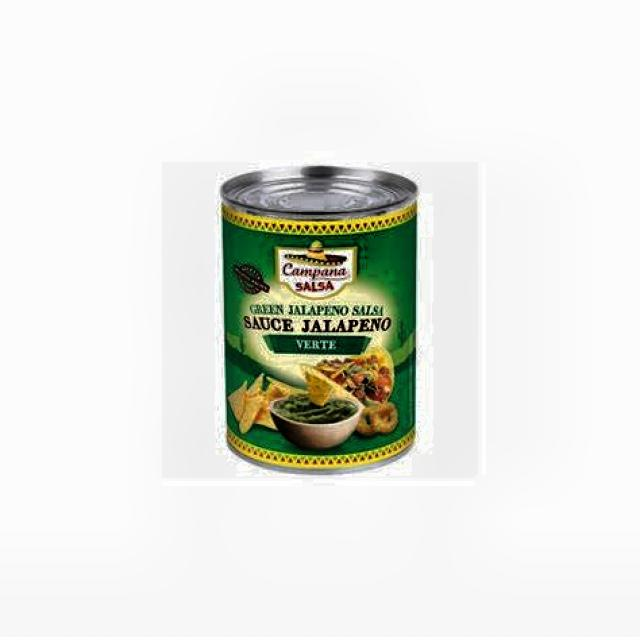Cans: (202, 154, 434, 486)
